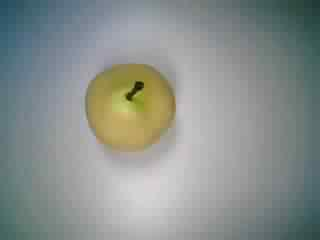pear: (80, 59, 179, 162)
